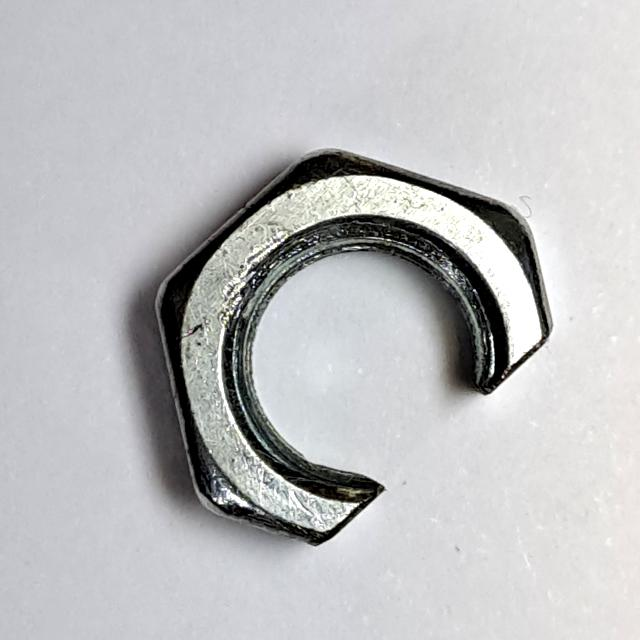Fracture: (143, 124, 567, 564)
